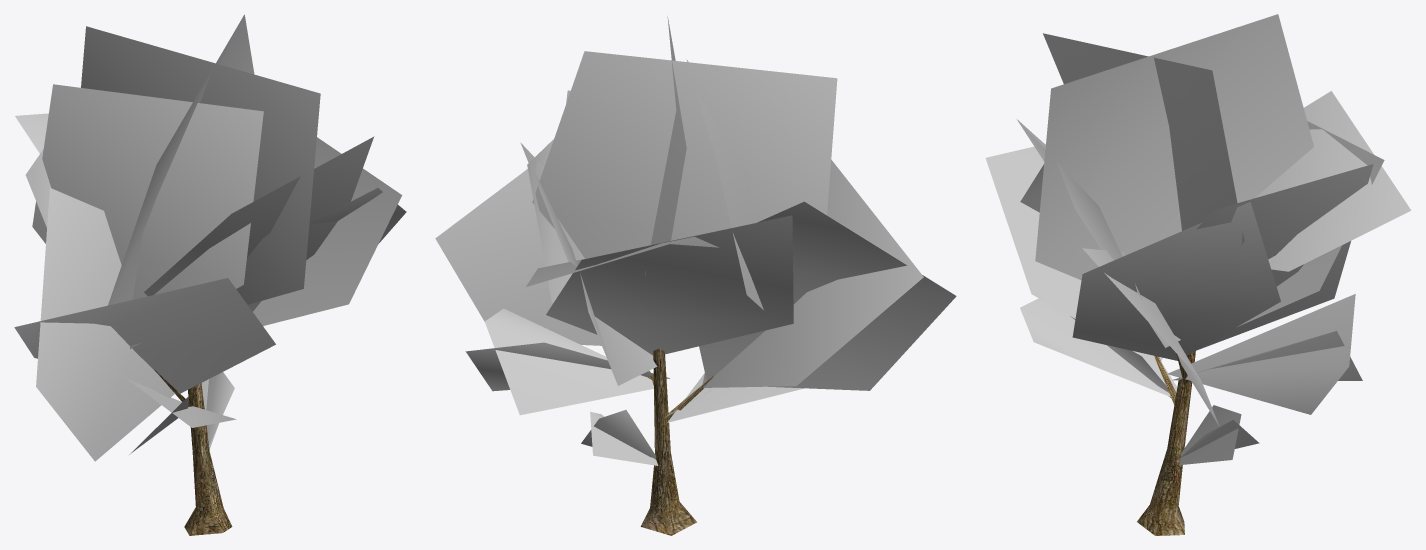
The model's file is tree 4.FBX.
The picture shows the model from 3 angles, left to right: view 1: azimuth 30°, elevation 25°; view 2: azimuth 150°, elevation 25°; view 3: azimuth 270°, elevation 25°; orthographic projection. The views are drawn at different scales.
Parts seen in each view (by area): view 1: MepTree5_132; view 2: MepTree5_132; view 3: MepTree5_132.
Boxes of the visible parts, bbox=[...] form: MepTree5_132: bbox=[14, 14, 406, 535]; MepTree5_132: bbox=[435, 16, 956, 535]; MepTree5_132: bbox=[985, 14, 1411, 535].
Bounding box in the file's own units: 192 × 198 × 157.
